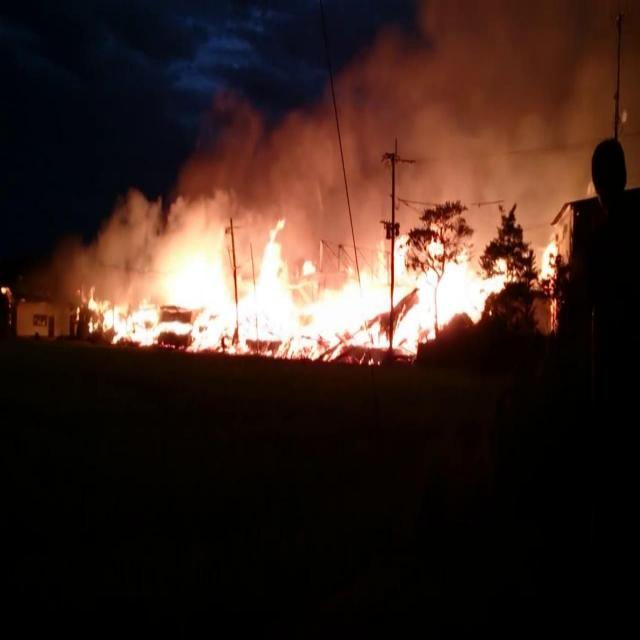fire: (82, 153, 553, 363)
